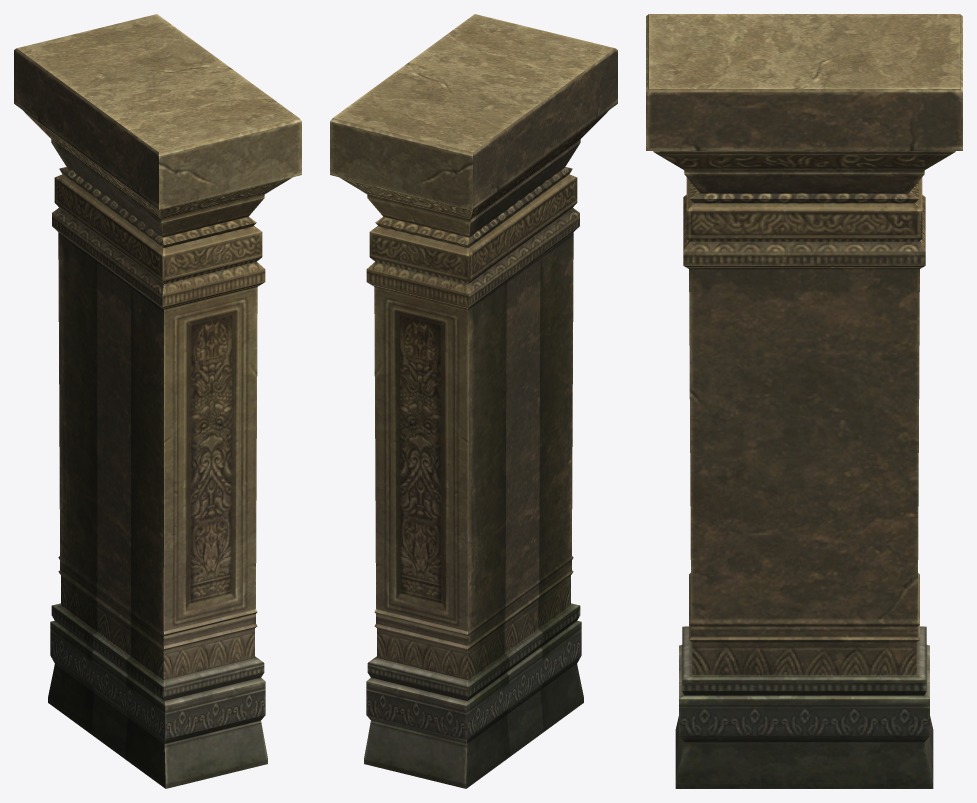
The model's file is thunder_ruins_pillar00.glb.
The picture shows the model from 3 angles, left to right: view 1: azimuth 30°, elevation 25°; view 2: azimuth 150°, elevation 25°; view 3: azimuth 270°, elevation 25°; orthographic projection. The views are drawn at different scales.
Visible parts, largest first — view 1: Pillar_1; view 2: Pillar_1; view 3: Pillar_1.
Boxes of the visible parts, x1=… form: Pillar_1: x1=14, y1=14, x2=301, y2=788; Pillar_1: x1=330, y1=14, x2=617, y2=788; Pillar_1: x1=646, y1=14, x2=962, y2=788.
Bounding box in the file's own units: 6.83 × 29.72 × 12.02.
Materials: 1 (1 with a texture image).
